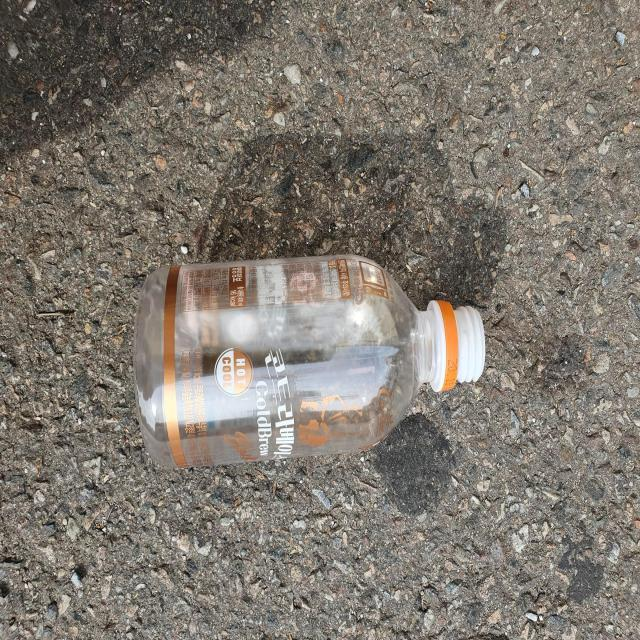plastic: (133, 256, 486, 468)
